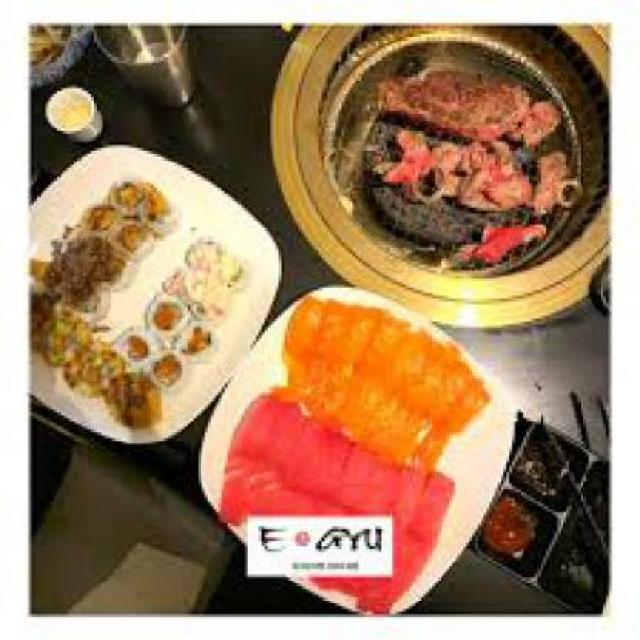sashimi: (236, 292, 475, 606)
steak: (359, 62, 583, 262)
sushi: (26, 153, 242, 441)
